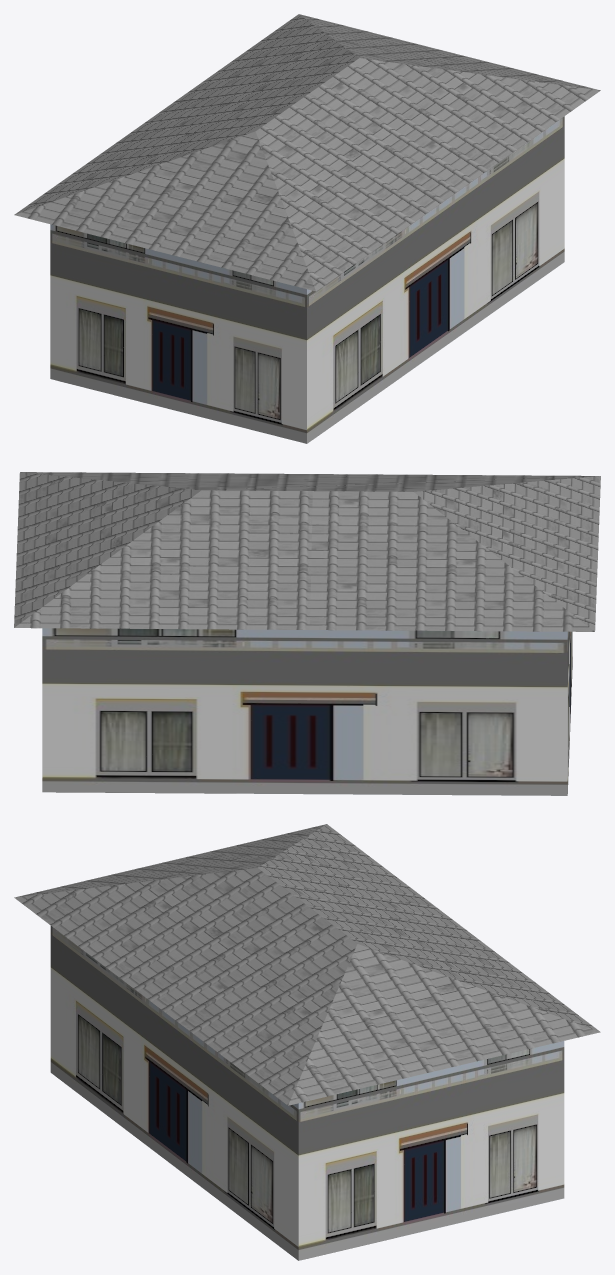
The picture shows the model from 3 angles, top to bottom: view 1: azimuth 30°, elevation 25°; view 2: azimuth 150°, elevation 25°; view 3: azimuth 270°, elevation 25°; orthographic projection. The views are drawn at different scales.
Parts seen in each view (by area): view 1: CityEngineMaterial_4_m, CityEngineMaterial_7_m; view 2: CityEngineMaterial_4_m, CityEngineMaterial_7_m; view 3: CityEngineMaterial_4_m, CityEngineMaterial_7_m.
Boxes of the visible parts, x1,y1,x2,y2 form: CityEngineMaterial_4_m: (14,14,600,291); CityEngineMaterial_7_m: (50,116,564,443); CityEngineMaterial_4_m: (14,472,600,631); CityEngineMaterial_7_m: (42,628,572,795); CityEngineMaterial_4_m: (14,824,600,1105); CityEngineMaterial_7_m: (50,926,564,1260).
Size of the model in its own units: 23.23 by 8.83 by 20.45.
